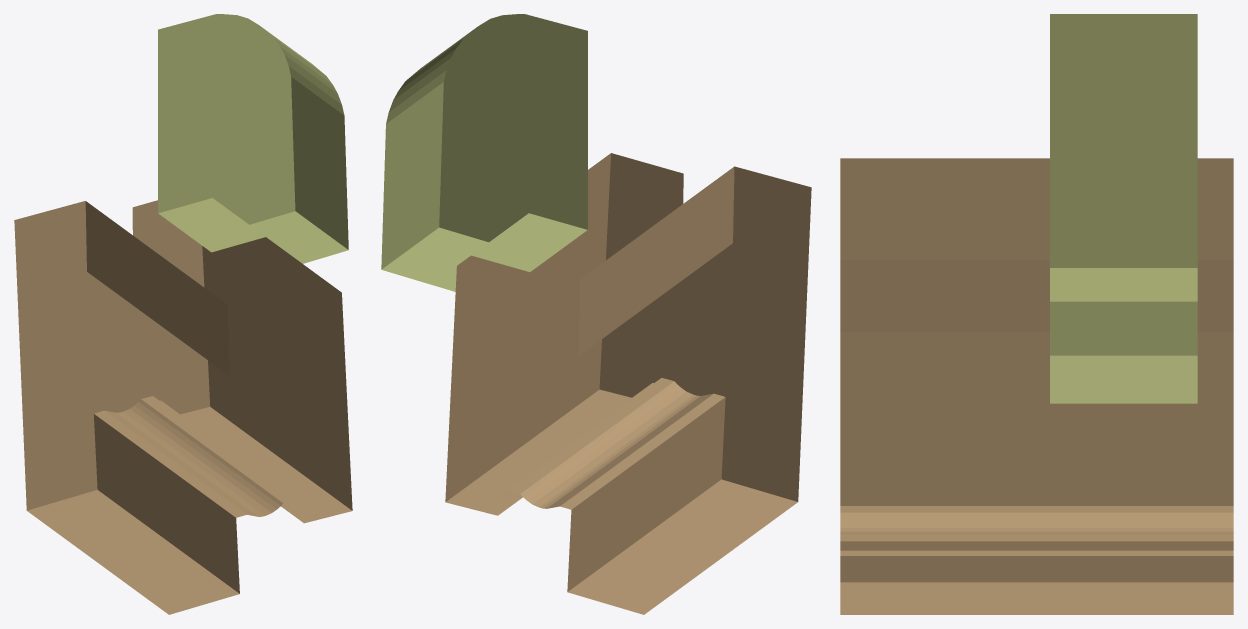
3 views of the same model, side by side, from view 1: azimuth 30°, elevation 25°; view 2: azimuth 150°, elevation 25°; view 3: azimuth 270°, elevation 25° (orthographic). The views are drawn at different scales.
Visible parts, largest first — view 1: 0_0_3_2_1_0_3_2_0; view 2: 0_0_3_2_1_0_3_2_0; view 3: 0_0_3_2_1_0_3_2_0.
Boxes of the visible parts, bbox=[...] form: 0_0_3_2_1_0_3_2_0: bbox=[14, 14, 352, 614]; 0_0_3_2_1_0_3_2_0: bbox=[381, 14, 811, 614]; 0_0_3_2_1_0_3_2_0: bbox=[840, 14, 1233, 614].
Size of the model in its own units: 26.08 by 43.07 by 24.
